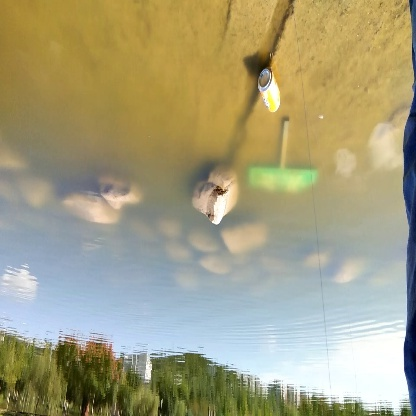bottle: (248, 64, 287, 117)
